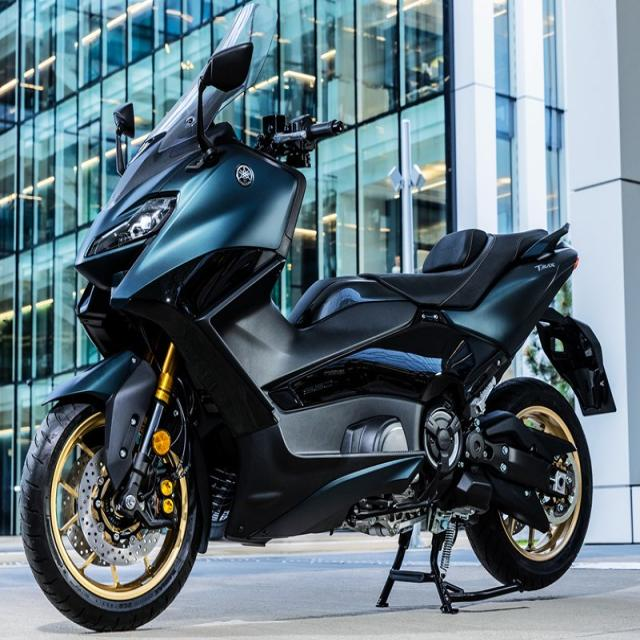Bike: (21, 3, 615, 631)
